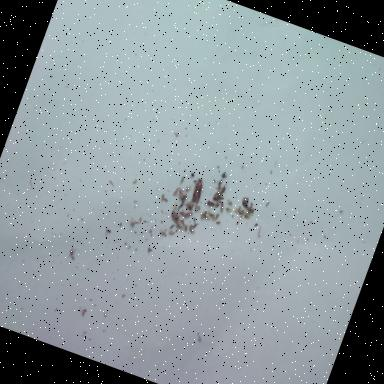pbw: (186, 176, 207, 206), (213, 178, 230, 202)
